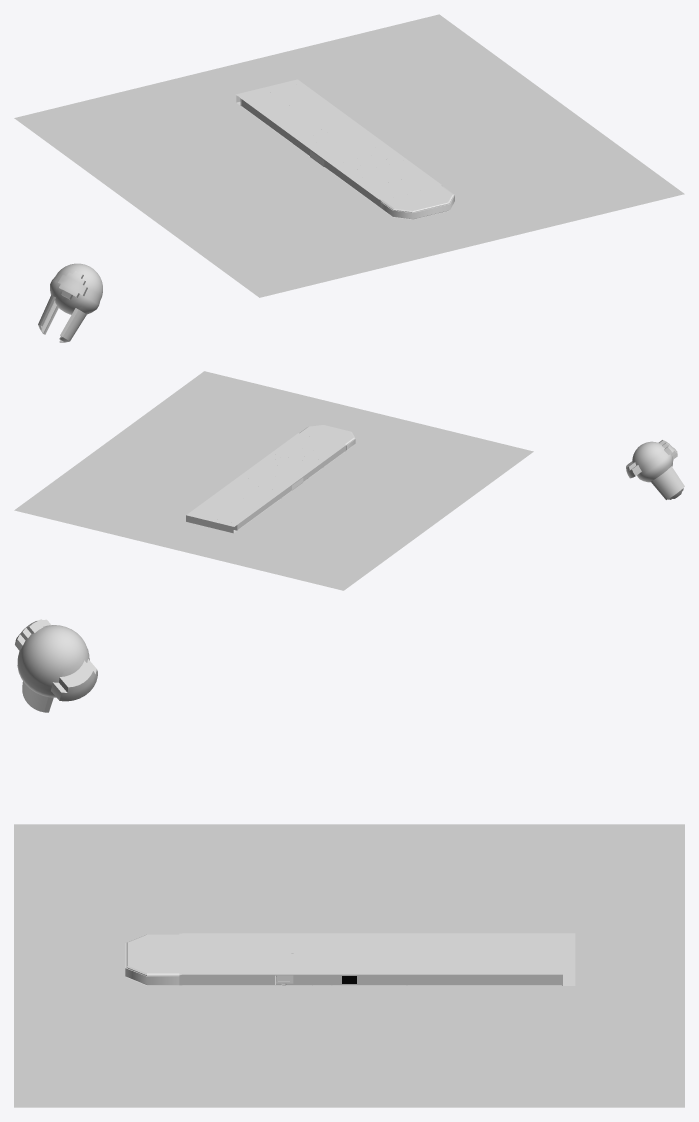
Rendered from level-1.glb.
3 renders of one model, top to bottom at view 1: azimuth 30°, elevation 25°; view 2: azimuth 150°, elevation 25°; view 3: azimuth 270°, elevation 25°, orthographic. The views are drawn at different scales.
Visible parts, largest first — view 1: Plane, Cube.006, Sphere, Cube.002, Cube.001, Cube.005; view 2: Plane, Cube.006, Sphere, Cube.002, Cube.001; view 3: Plane, Cube.006, Sphere, Cube.002, Cube.001.
Part boxes in pixels (x1,y1,x2,y2): Plane: (14, 14, 684, 297); Cube.006: (236, 79, 452, 210); Sphere: (38, 263, 102, 342); Cube.002: (236, 94, 454, 219); Cube.001: (236, 83, 449, 219); Cube.005: (380, 195, 454, 218); Plane: (14, 371, 533, 590); Cube.006: (186, 425, 353, 526); Sphere: (626, 440, 684, 499); Cube.002: (186, 426, 355, 533); Cube.001: (190, 433, 354, 532); Plane: (14, 824, 684, 1107); Cube.006: (127, 933, 575, 974); Sphere: (15, 619, 97, 712); Cube.002: (125, 933, 574, 985); Cube.001: (126, 933, 575, 985).
Size of the model in its own units: 224 by 27.56 by 151.
Materials: 5 (1 with a texture image).
